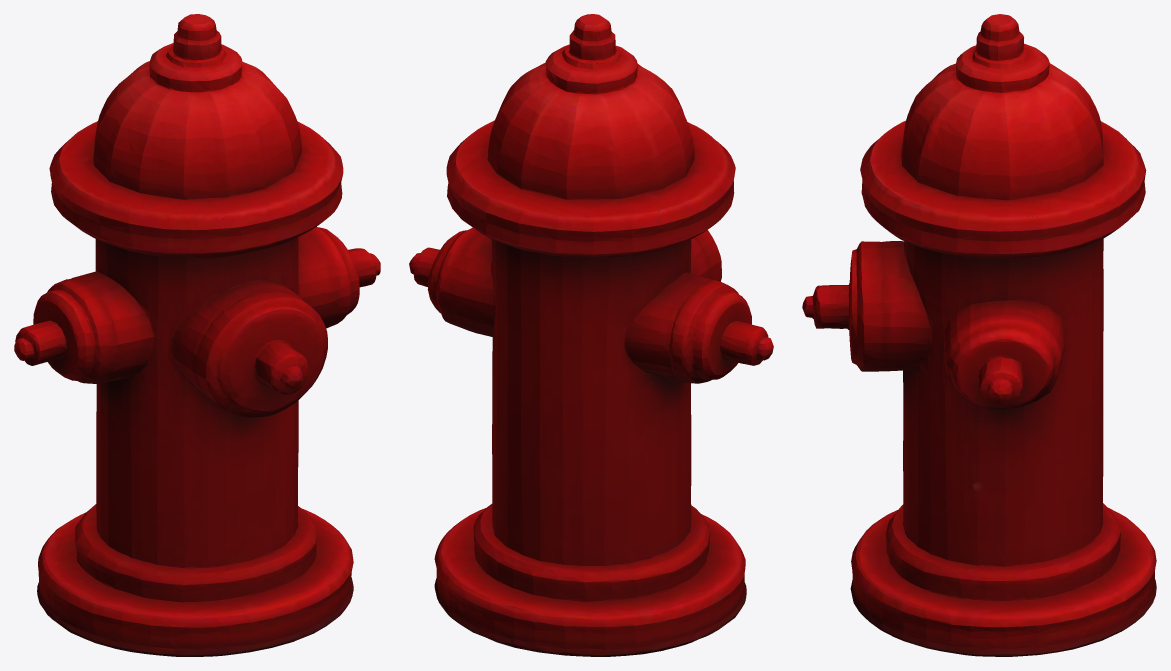
Rendered from hydrant.glb.
3 renders of one model, left to right at view 1: azimuth 30°, elevation 25°; view 2: azimuth 150°, elevation 25°; view 3: azimuth 270°, elevation 25°, orthographic.
Parts seen in each view (by area): view 1: world; view 2: world; view 3: world.
Part boxes in pixels (x1,y1,x2,y2): world: (14, 14, 380, 656); world: (409, 14, 773, 656); world: (802, 14, 1156, 656).
Size of the model in its own units: 0.6588 by 1 by 0.5608.
1 material, 1 textured.
